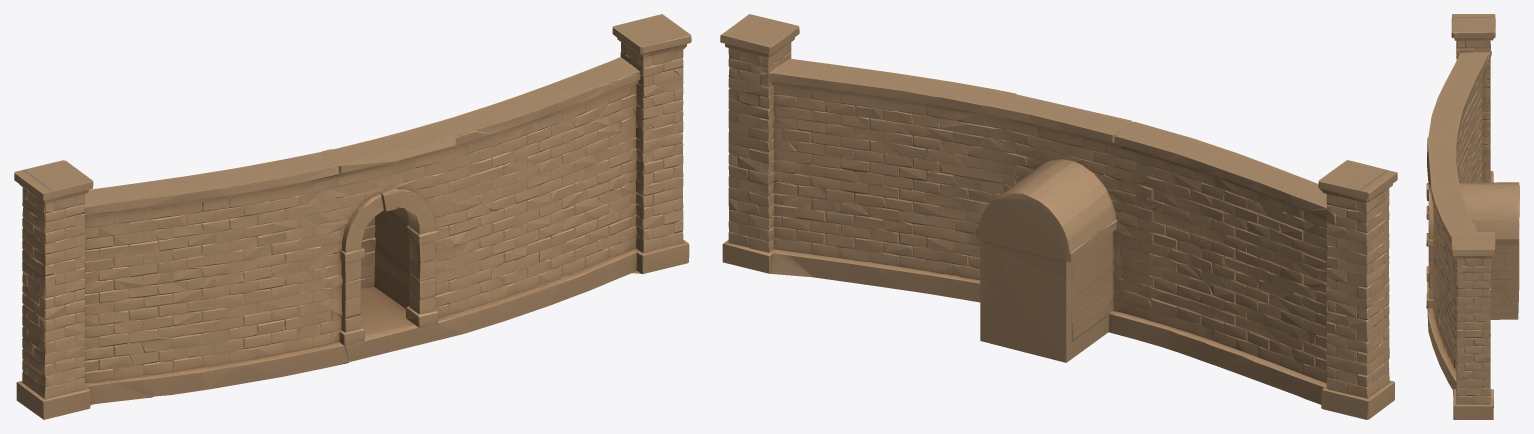
Rendered from arena_wall.glb.
3 renders of one model, left to right at view 1: azimuth 30°, elevation 25°; view 2: azimuth 150°, elevation 25°; view 3: azimuth 270°, elevation 25°, orthographic. The views are drawn at different scales.
Size of the model in its own units: 1.9 by 0.6391 by 0.316.
1 material, 1 textured.
